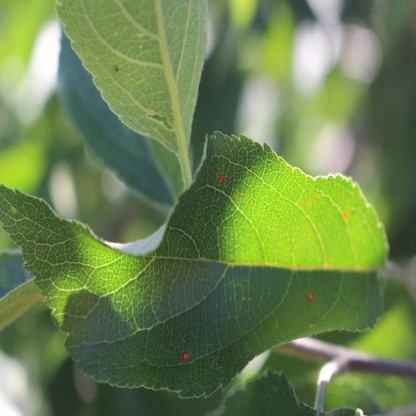rust: (181, 349, 189, 362), (306, 290, 314, 302), (217, 173, 225, 184), (307, 322, 314, 328), (343, 209, 348, 216)
scab: (299, 195, 319, 206)
